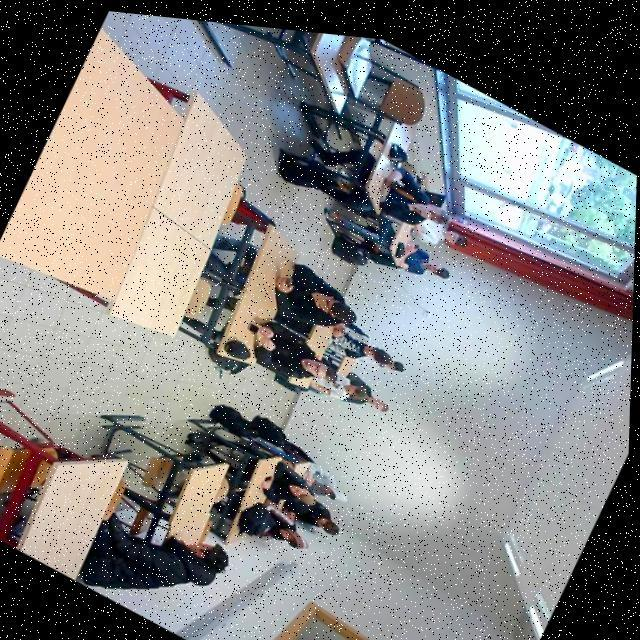daydreaming: (79, 514, 226, 587)
phone_use: (365, 144, 443, 223), (273, 263, 354, 333), (300, 358, 385, 409), (323, 320, 402, 373), (389, 219, 447, 276), (264, 460, 317, 514), (284, 482, 337, 533), (298, 461, 345, 500)
